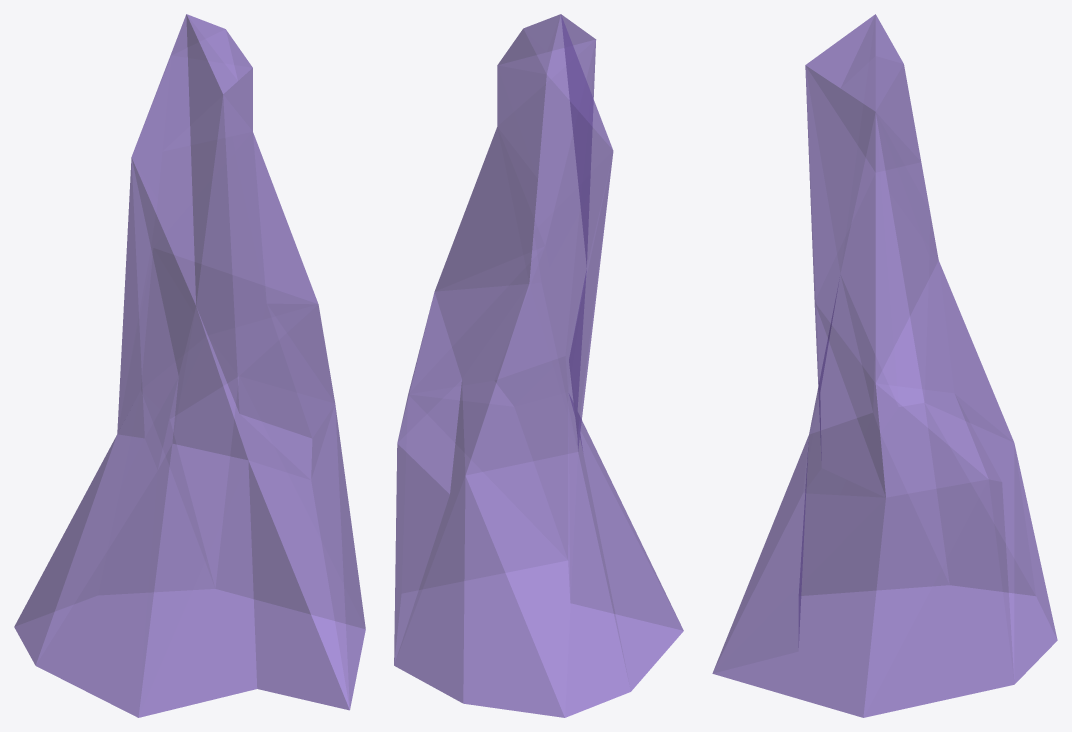
Rendered from Crystal_New_03.fbx.
3 renders of one model, left to right at view 1: azimuth 30°, elevation 25°; view 2: azimuth 150°, elevation 25°; view 3: azimuth 270°, elevation 25°, orthographic. The views are drawn at different scales.
Visible parts, largest first — view 1: Model; view 2: Model; view 3: Model.
Boxes of the visible parts, <box> form: Model: <box>14,14,365,717</box>; Model: <box>394,14,683,717</box>; Model: <box>712,14,1057,717</box>.
Bounding box in the file's own units: 523 × 1145 × 575.
